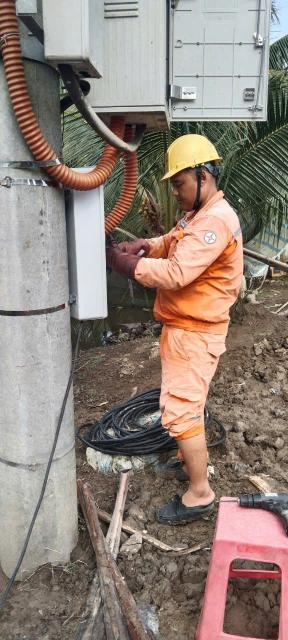gloves: (90, 228, 139, 281), (114, 226, 158, 257)
helmet: (152, 132, 233, 181)
shoes: (150, 487, 218, 528), (131, 444, 192, 483)
